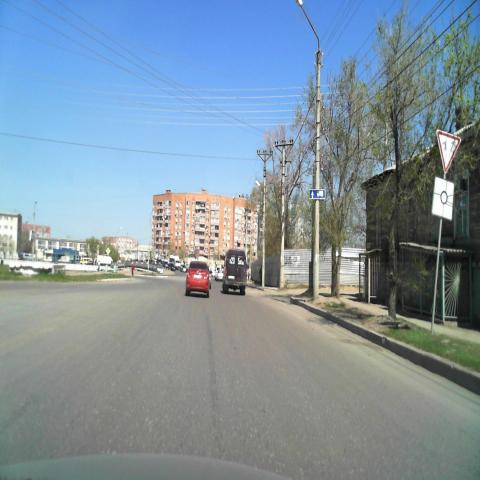8_13_1: (431, 177, 454, 219)
